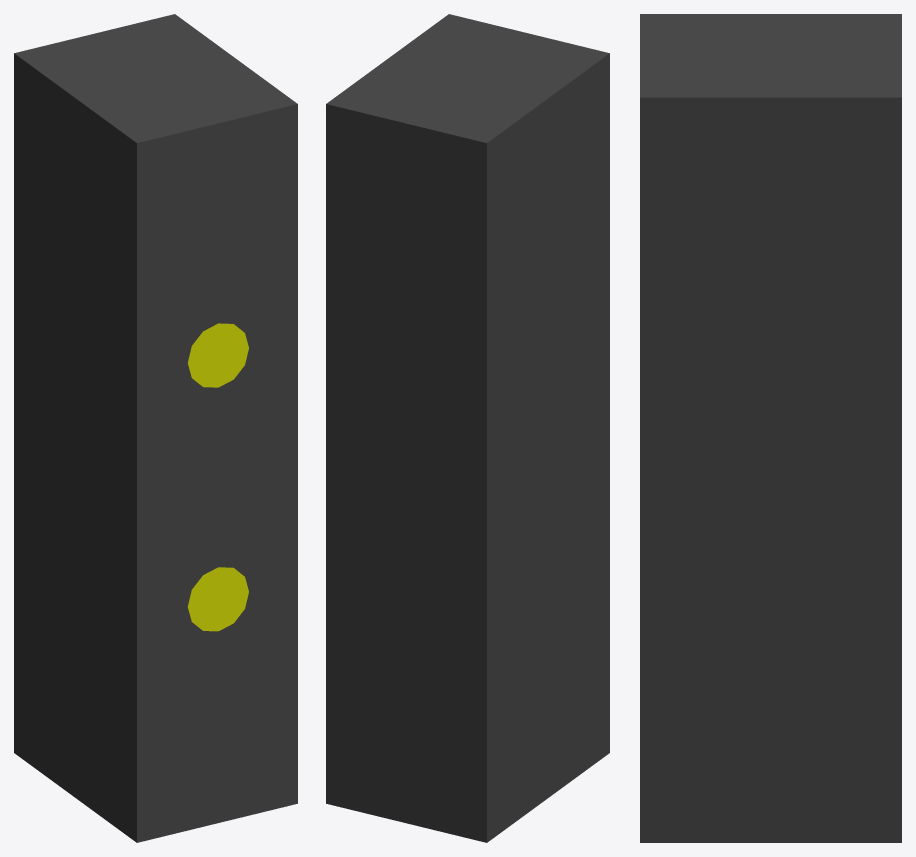
File: 2points.fbx
The picture shows the model from 3 angles, left to right: view 1: azimuth 30°, elevation 25°; view 2: azimuth 150°, elevation 25°; view 3: azimuth 270°, elevation 25°; orthographic projection. The views are drawn at different scales.
Visible parts, largest first — view 1: housing2, p2; view 2: housing2; view 3: housing2.
Boxes of the visible parts, left/top/right/bottom form: housing2: left=14, top=14, right=297, bottom=842; p2: left=187, top=323, right=248, bottom=631; housing2: left=326, top=14, right=609, bottom=842; housing2: left=640, top=14, right=901, bottom=842.
Size of the model in its own units: 1.29 by 5.37 by 1.72.
